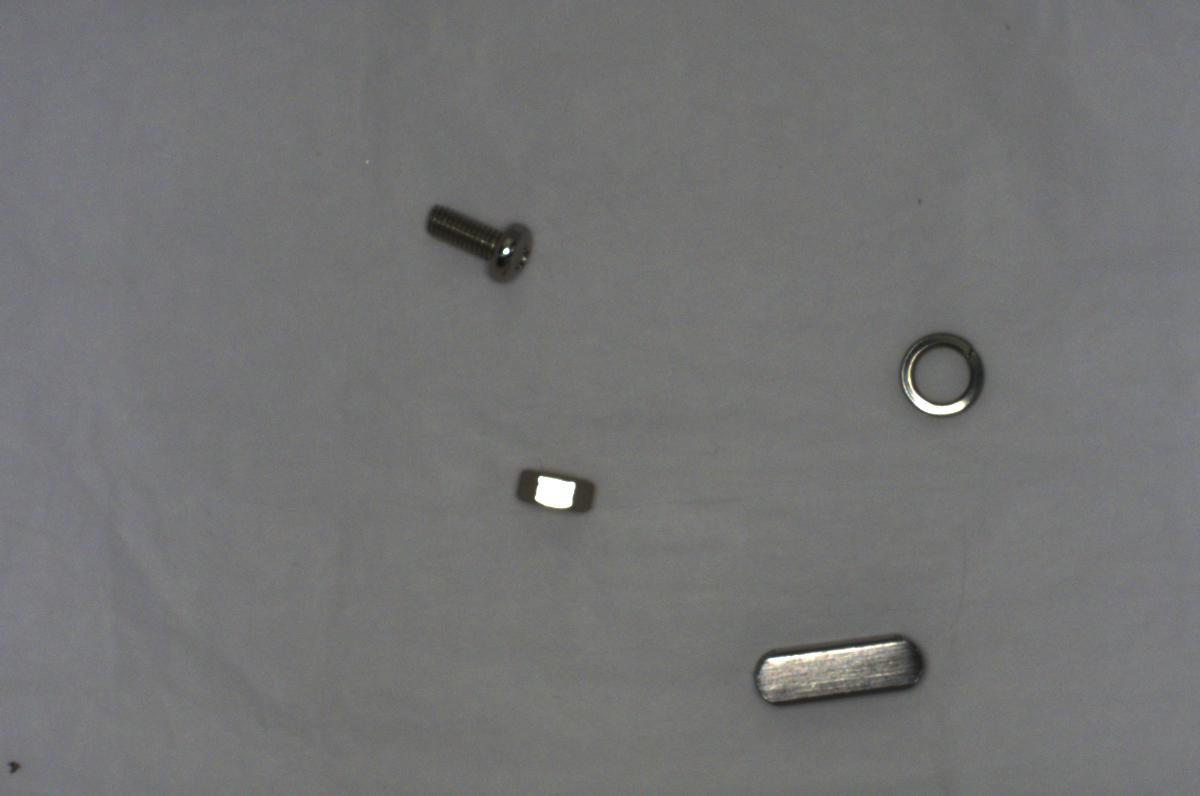Hexagon nut: (501, 456, 602, 523)
Keybar: (741, 628, 940, 718)
Round head screw: (410, 194, 550, 290)
Spring washer: (891, 321, 990, 422)
